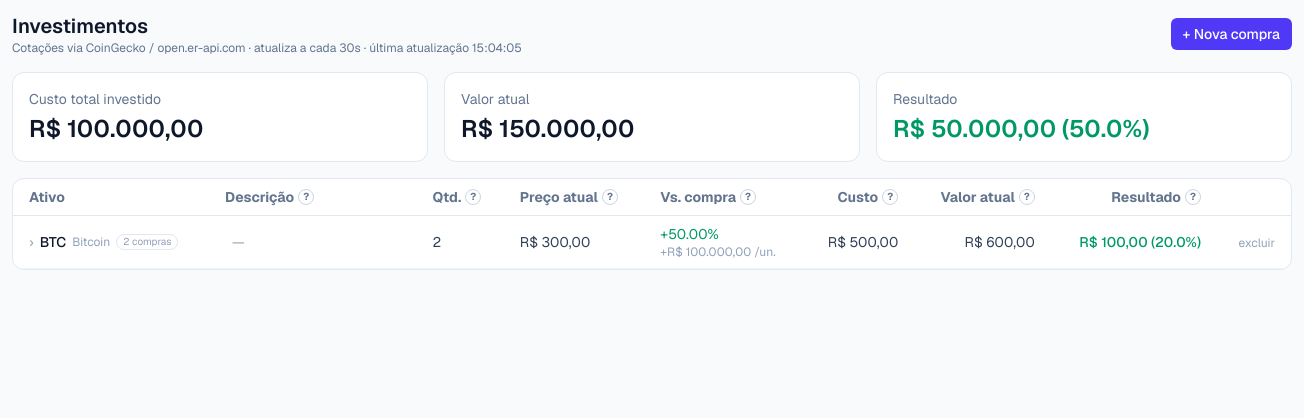
Test: página /investimentos — compras de um ativo › fecha ao clicar no símbolo de novo
Expected: the text "BTC" is shown, [40,232,66,252]
Click the button with aria-label "compras de BTC". click: (104, 242)
box: [29,232,178,252]
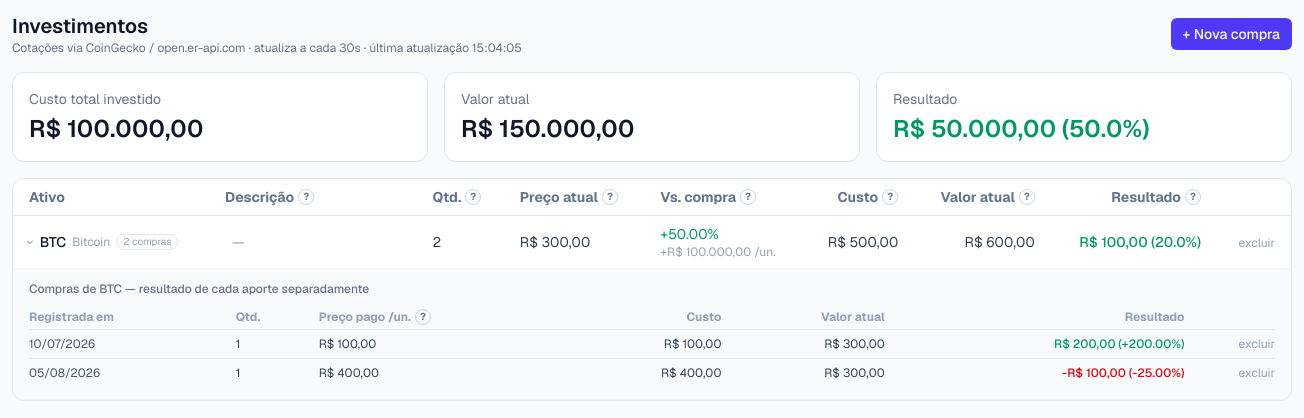
Result: the text "Compras de BTC — resultado de cada aporte separadamente" is shown at [29,281,369,297]
Click the button with aria-label "compras de BTC". click: (104, 242)
box: [29,232,178,252]
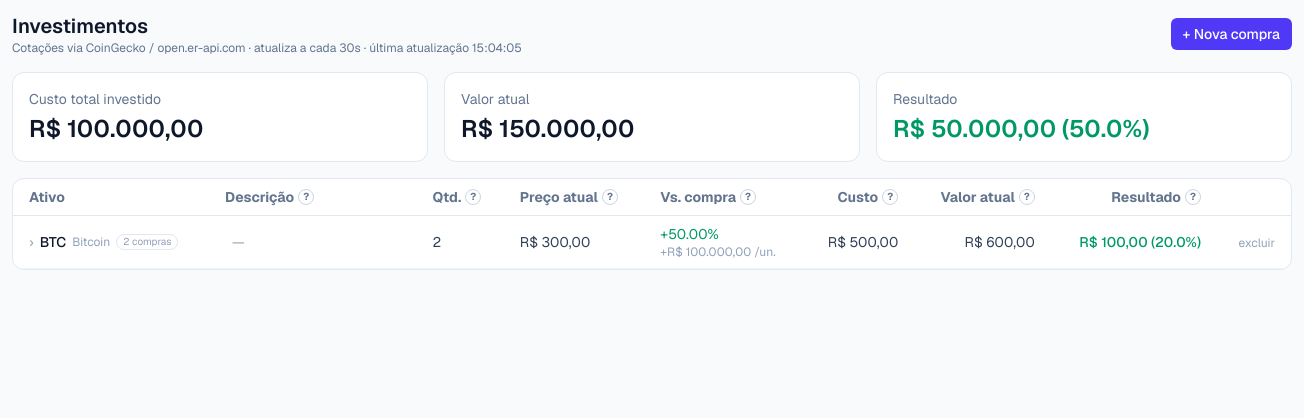
Result: the text "resultado de cada aporte" is gone
